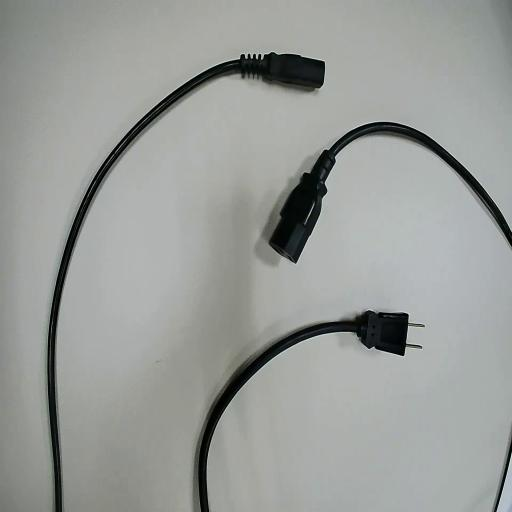wire: (48, 53, 323, 511), (197, 312, 407, 511), (269, 123, 511, 260)
